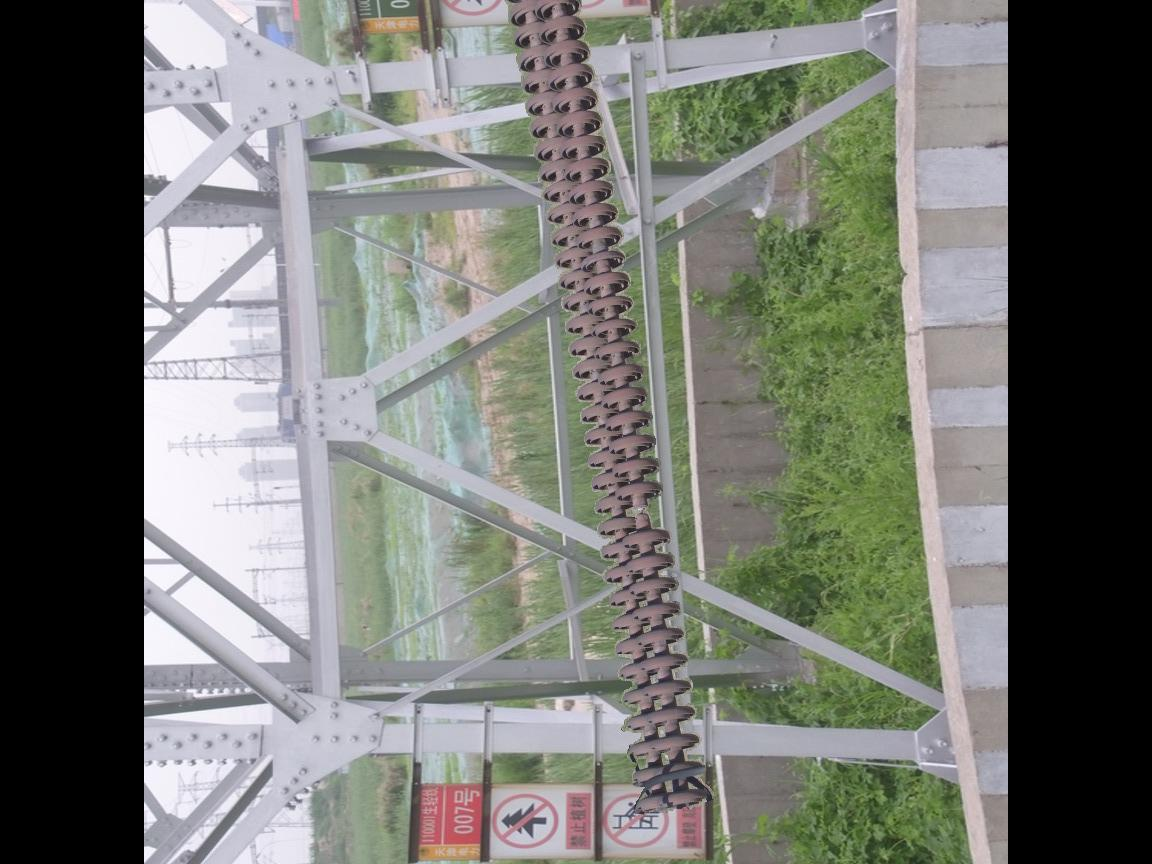insulator: (500, 1, 713, 820)
insulator_stringdrop: (611, 476, 675, 553)
